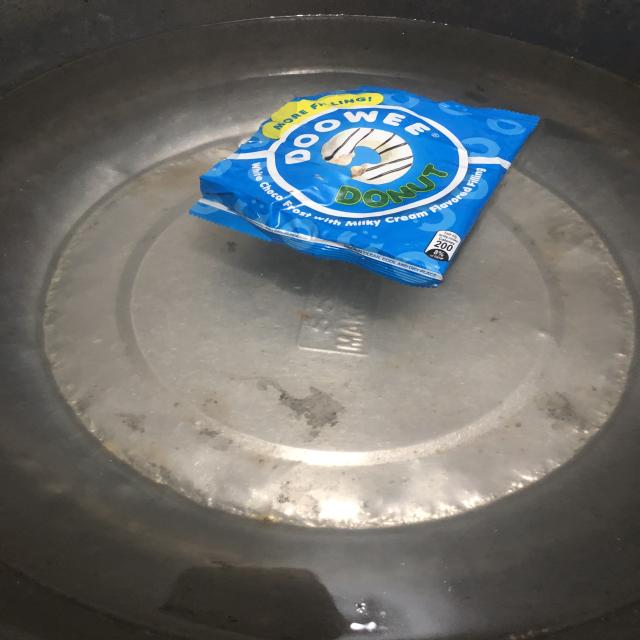Plastic Wrapper: (200, 81, 540, 284)
